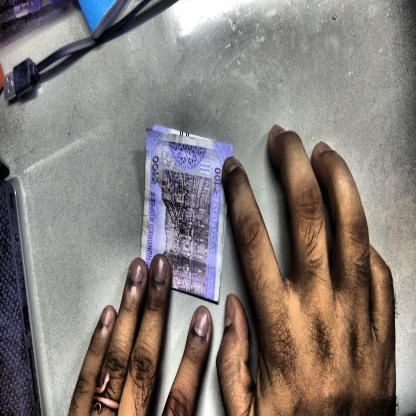Rs100: (211, 163, 225, 199)
